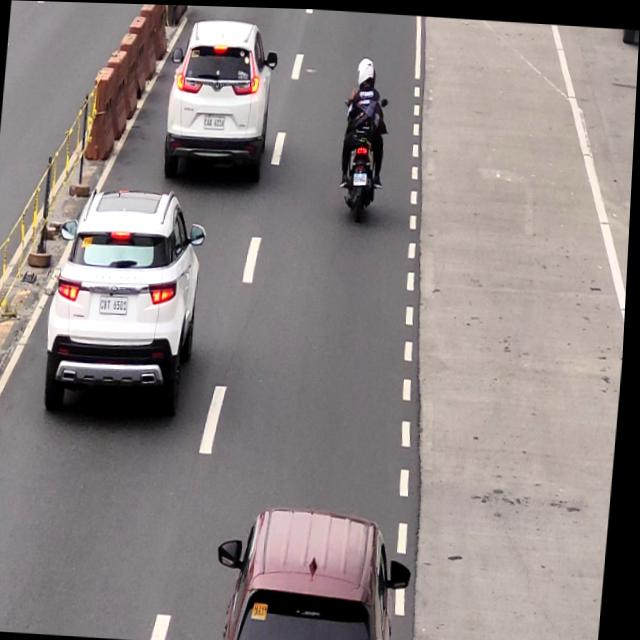Car: (40, 183, 206, 420), (231, 503, 409, 640), (163, 11, 273, 180)
License-Plate: (99, 294, 132, 317), (203, 111, 227, 131), (352, 169, 370, 187)
Motorcycle: (338, 55, 396, 217)
